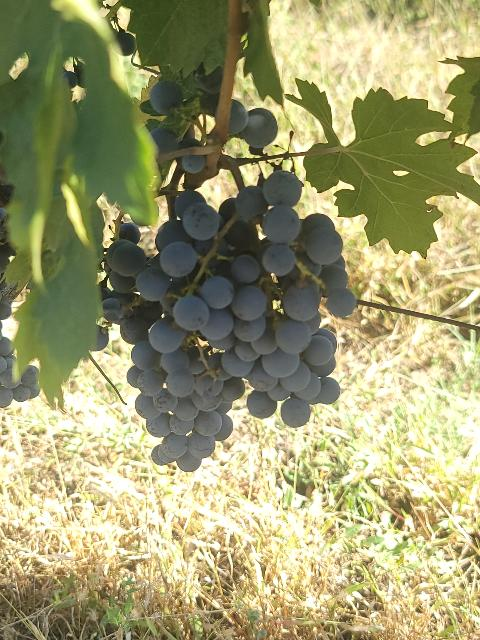grapes: (156, 170, 356, 428), (100, 230, 232, 471)
